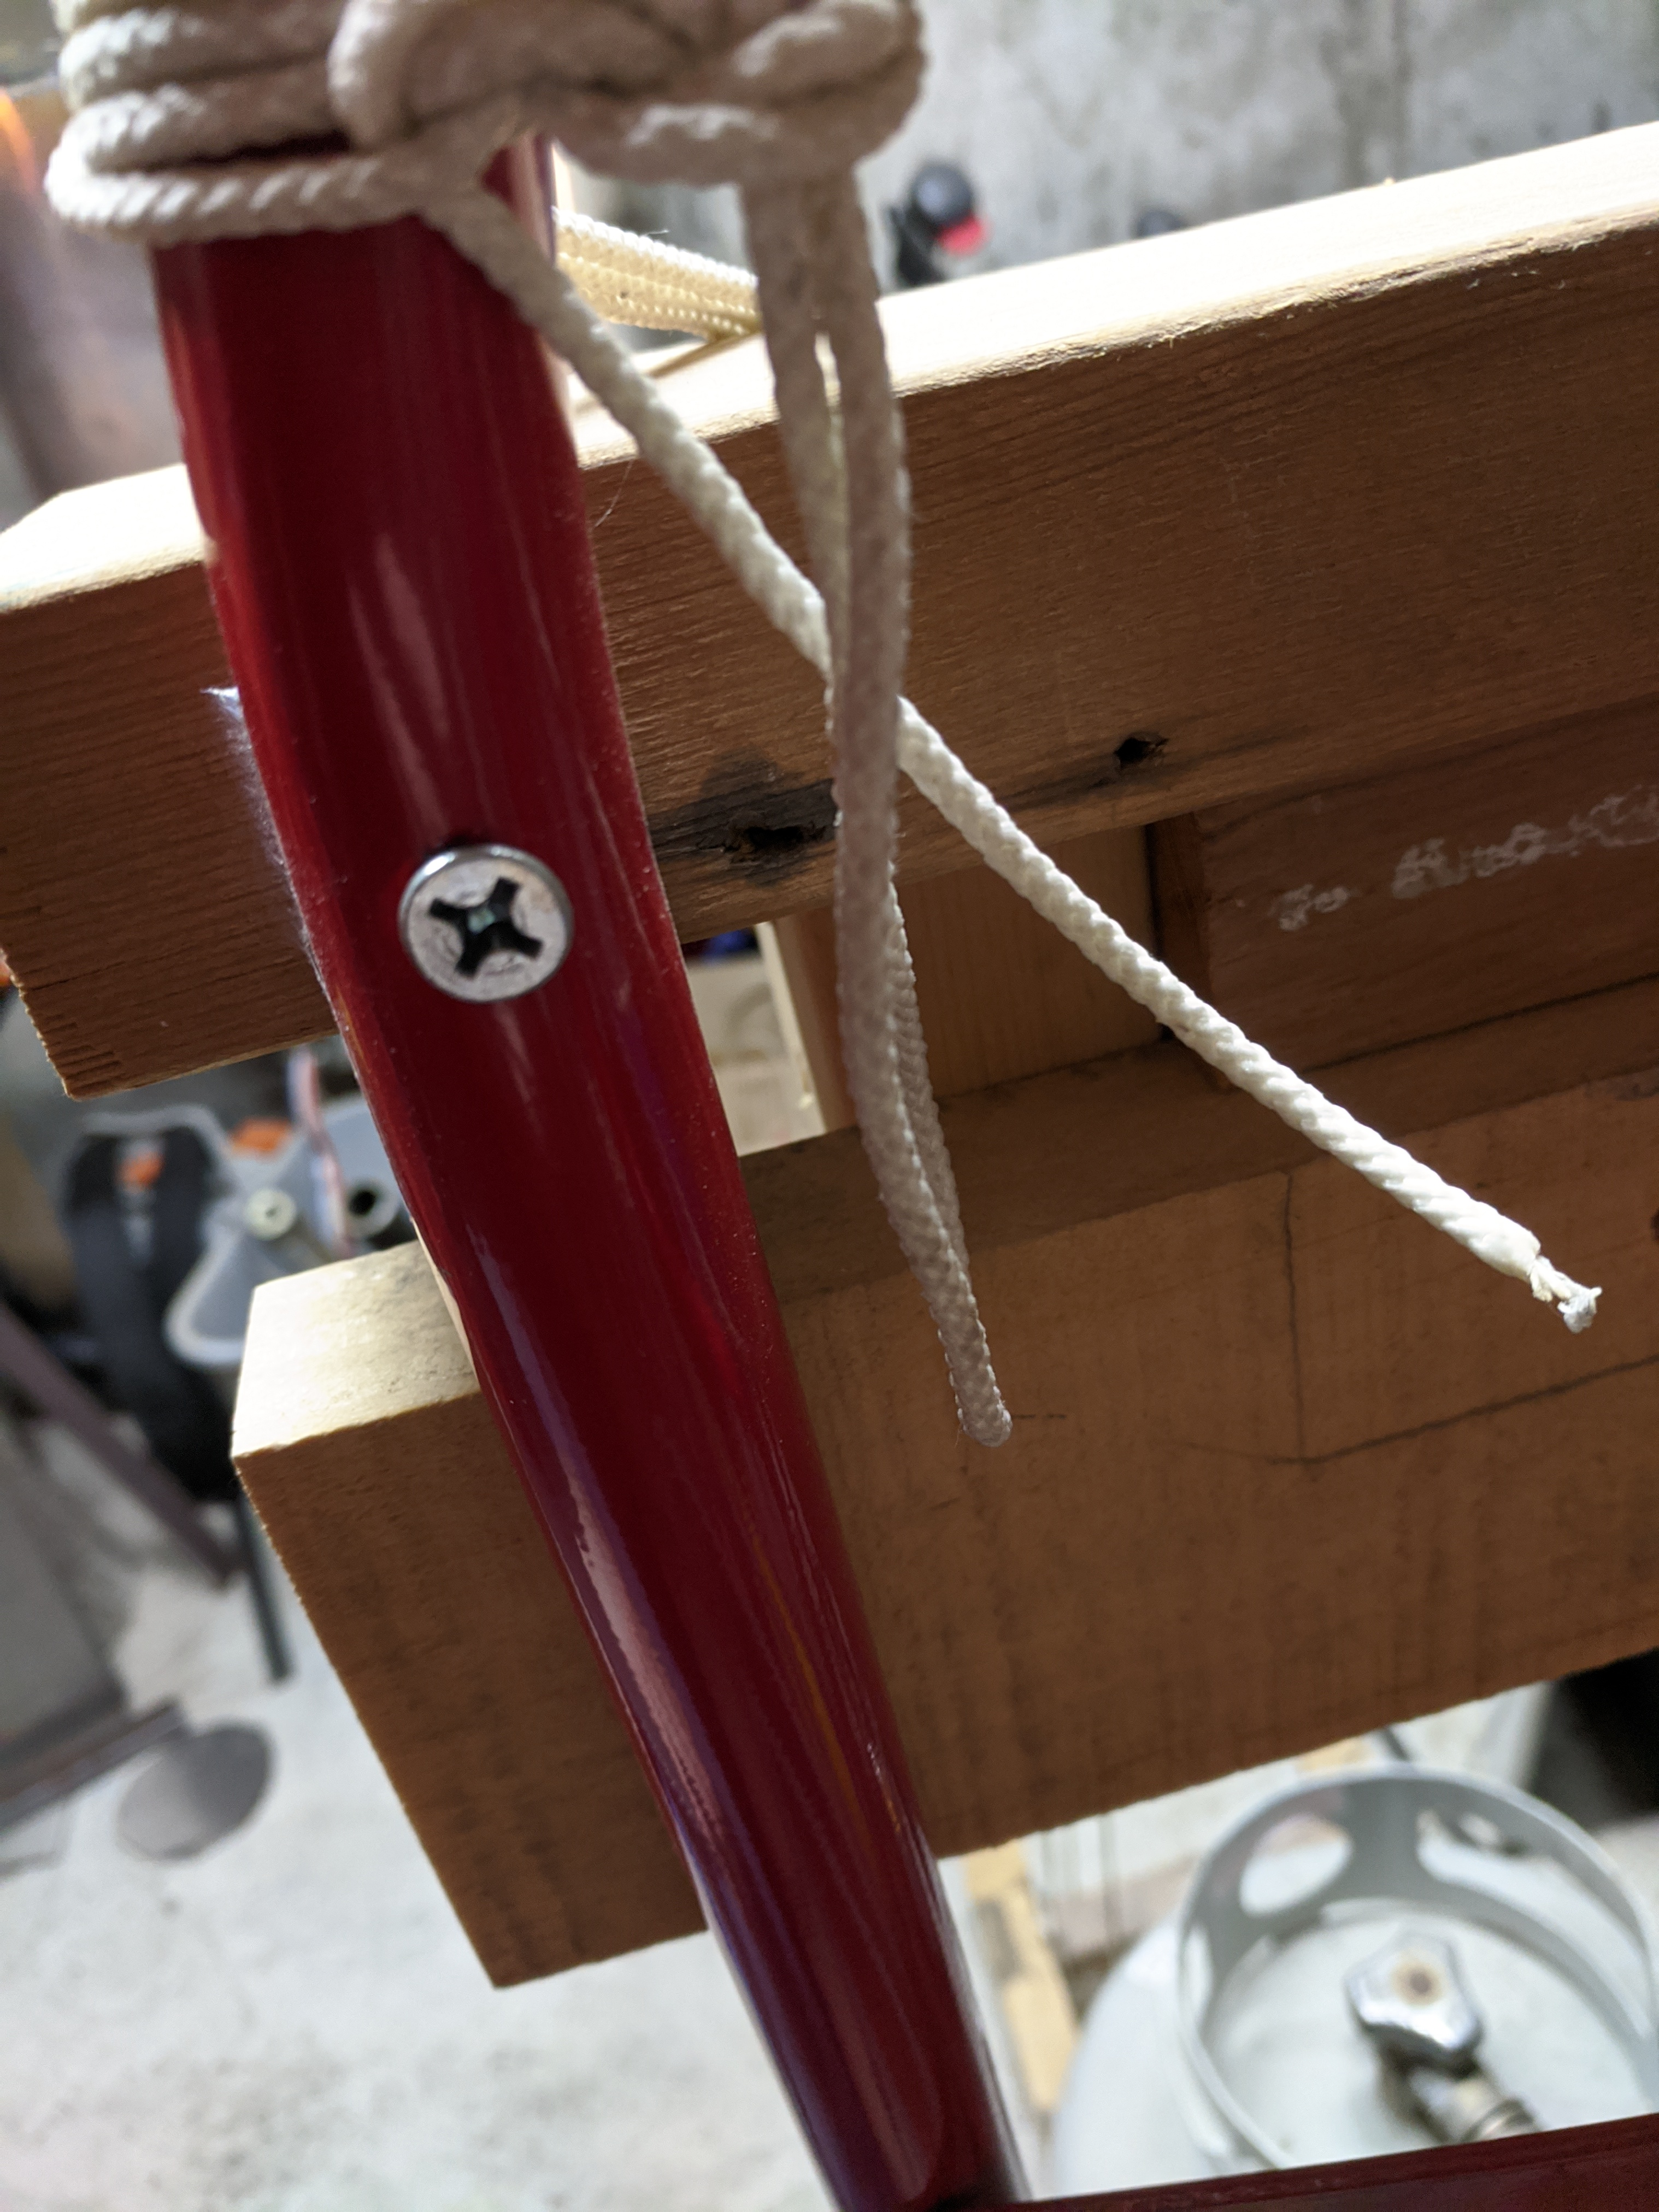cross_recessed_screw: (397, 831, 566, 1001)
